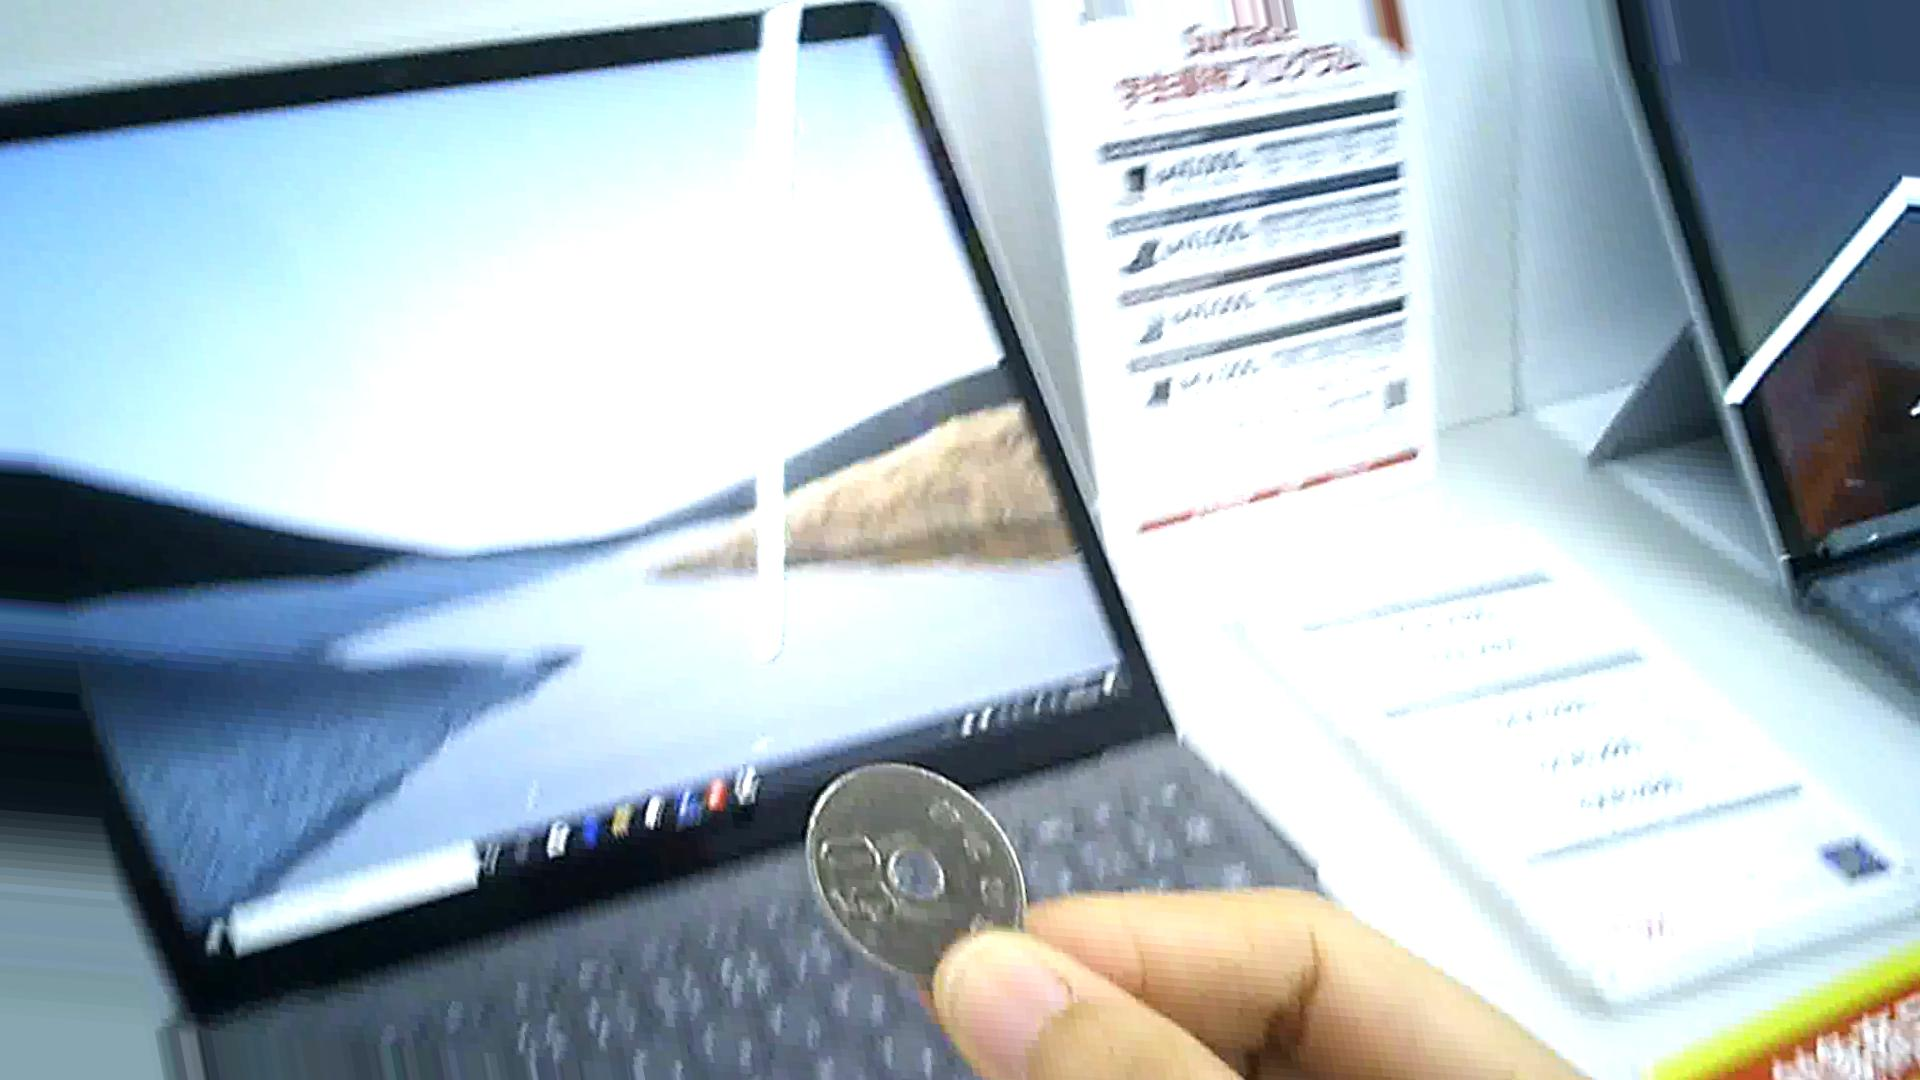50 Yen: (810, 746, 1047, 975)
